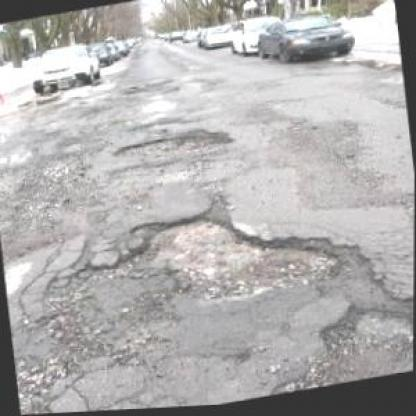pothole: (106, 186, 352, 319), (314, 301, 414, 372), (110, 128, 233, 172)
